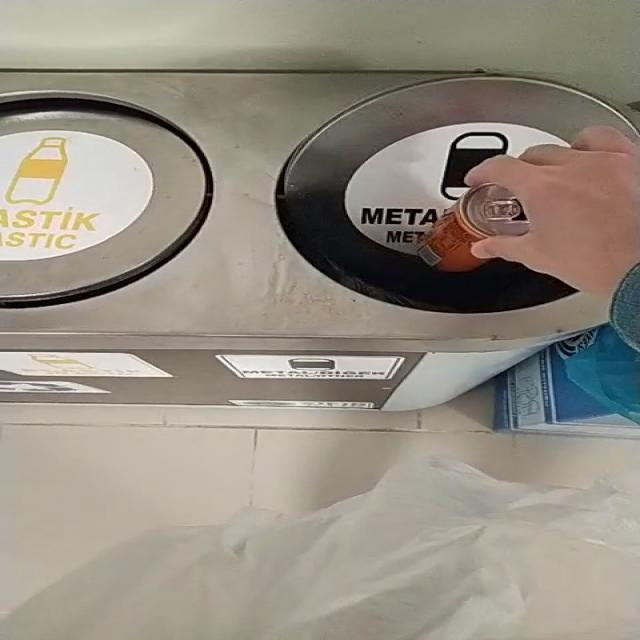Bin: (0, 73, 631, 408)
Metal: (419, 184, 531, 272)
